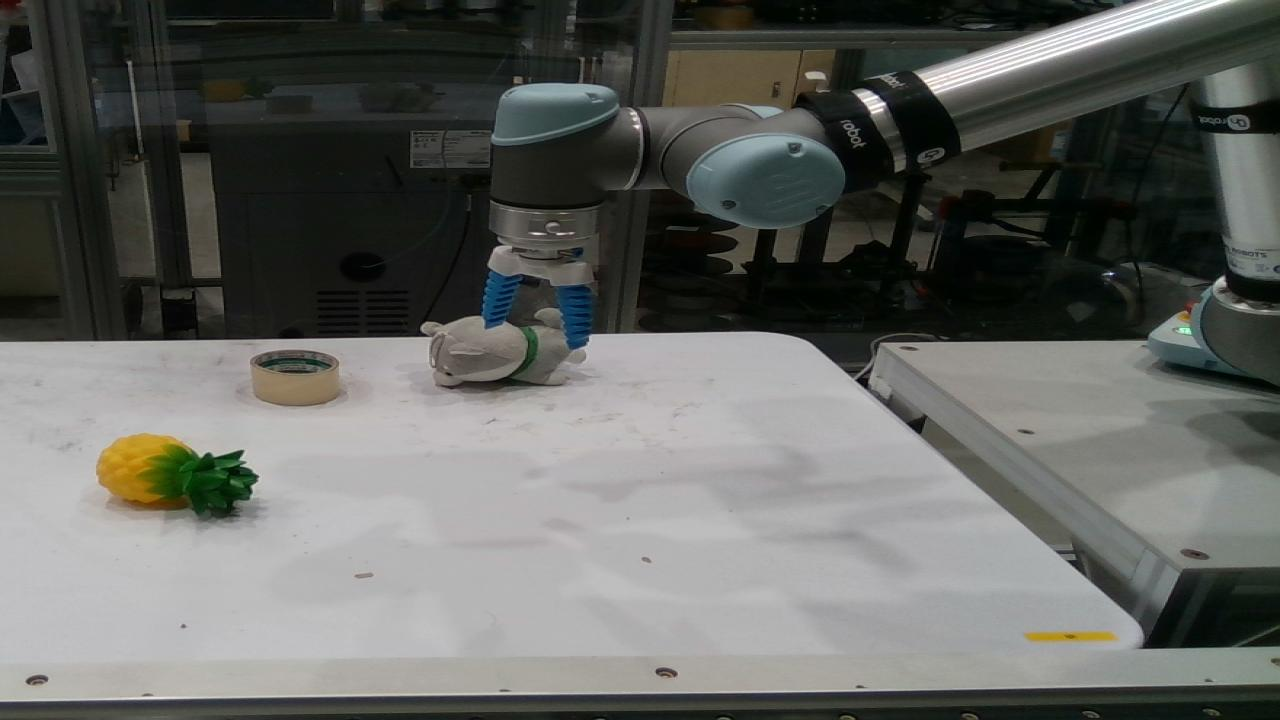UR5: (486, 0, 1279, 388)
gripper_left: (481, 271, 522, 329)
gripper_right: (555, 283, 592, 351)
target: (95, 433, 260, 518), (421, 308, 587, 388), (250, 349, 340, 405)
